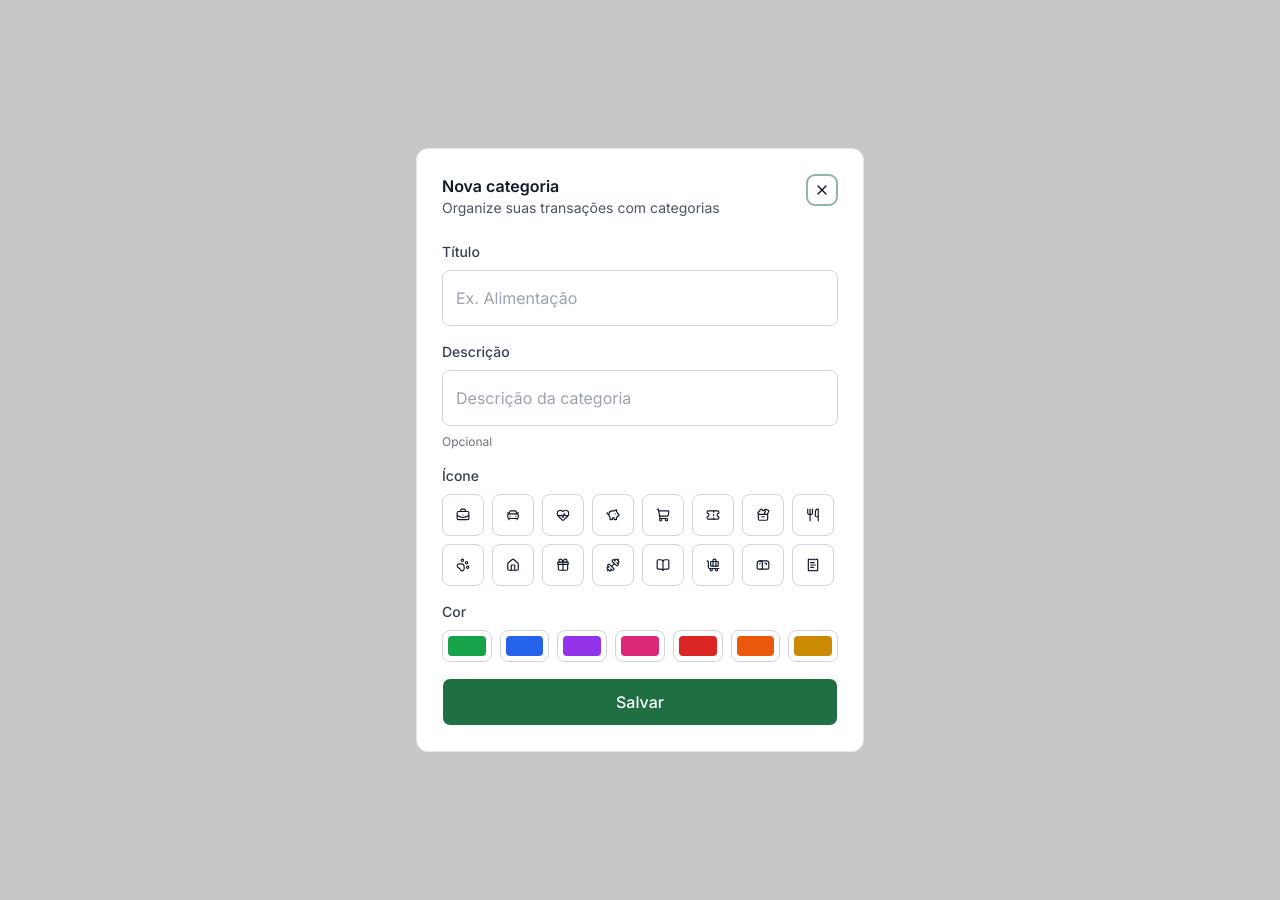
Test: CategoryDialog › exige icone e cor ao salvar
The width and height of the screenshot is (1280, 900).
Type "Lazer" into the field labelled "Título" at (640, 298), box 442,270 -> 838,326
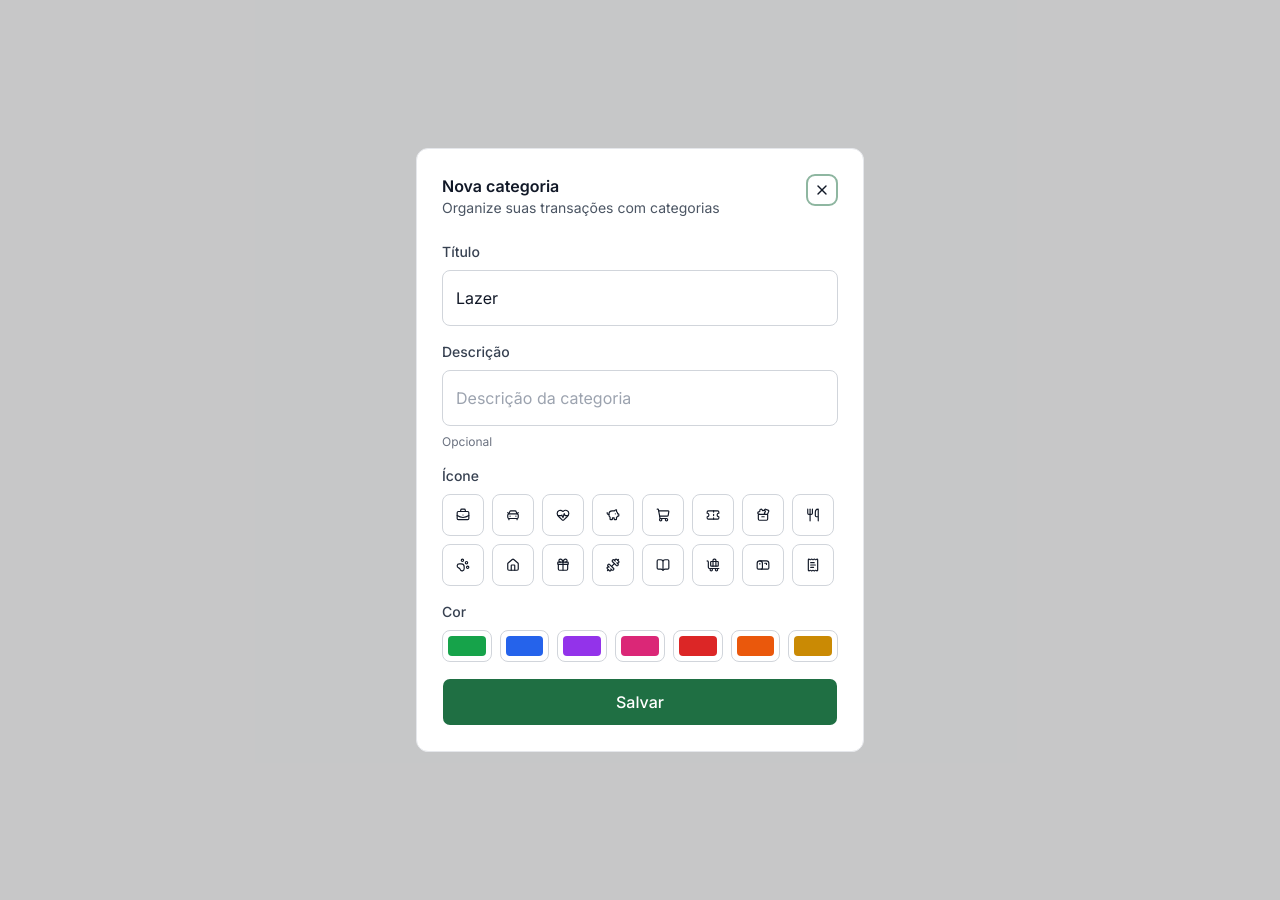
Click the button "Salvar" at (640, 702), box 442,678 -> 838,726
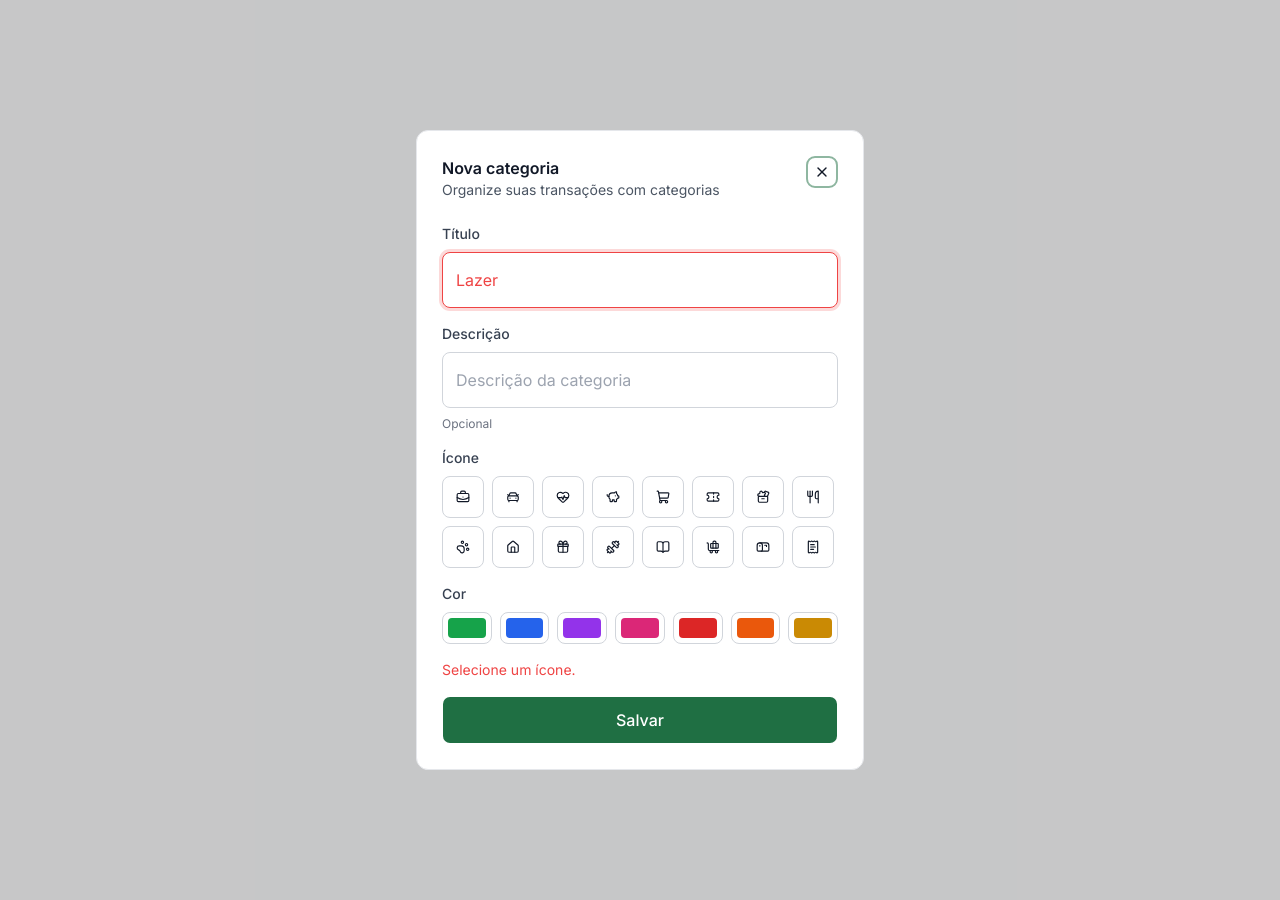
Expected: the message reads "Selecione um ícone.", 442,661 -> 576,678
